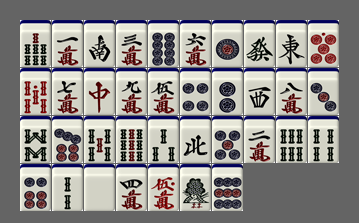0m: (148, 164, 179, 211)
0p: (308, 20, 339, 67)
0s: (20, 68, 51, 115)
1m: (52, 20, 83, 67)
1p: (212, 20, 243, 67)
1s: (180, 164, 211, 211)
1z: (276, 20, 307, 67)
2m: (244, 116, 275, 163)
2p: (212, 68, 243, 115)
2s: (52, 164, 83, 211)
2z: (84, 20, 115, 67)
3m: (116, 20, 147, 67)
3p: (308, 68, 339, 115)
3s: (148, 116, 179, 163)
3z: (244, 68, 275, 115)
4m: (116, 164, 147, 211)
4p: (180, 68, 211, 115)
4s: (308, 116, 339, 163)
4z: (180, 116, 211, 163)
5m: (148, 68, 179, 115)
5p: (212, 116, 243, 163)
5s: (84, 116, 115, 163)
5z: (84, 164, 115, 211)
6m: (180, 20, 211, 67)
6p: (20, 164, 51, 211)
6s: (276, 116, 307, 163)
6z: (244, 20, 275, 67)
7m: (52, 68, 83, 115)
7p: (52, 116, 83, 163)
7s: (20, 20, 51, 67)
7z: (84, 68, 115, 115)
8m: (276, 68, 307, 115)
8p: (148, 20, 179, 67)
8s: (20, 116, 51, 163)
9m: (116, 68, 147, 115)
9p: (212, 164, 243, 211)
9s: (116, 116, 147, 163)
